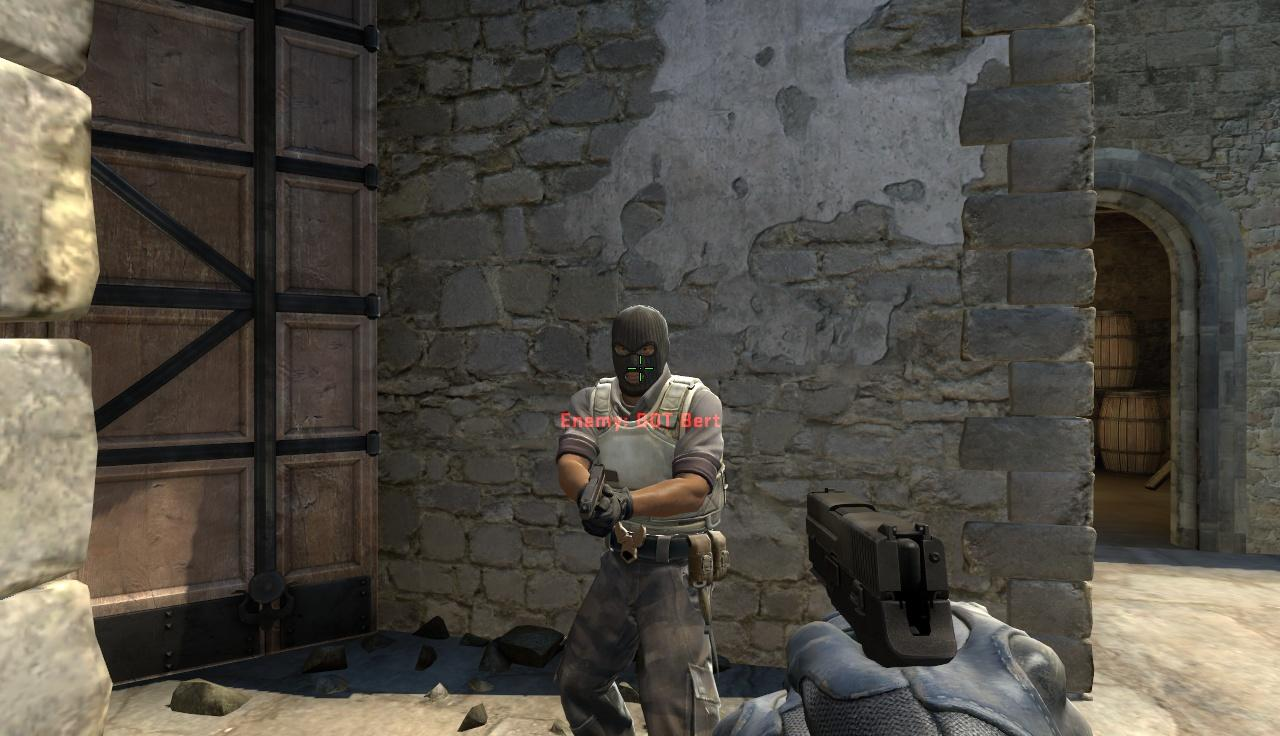pistol: (793, 491, 1048, 736)
tt: (552, 308, 716, 736)
tthead: (609, 306, 666, 395)
